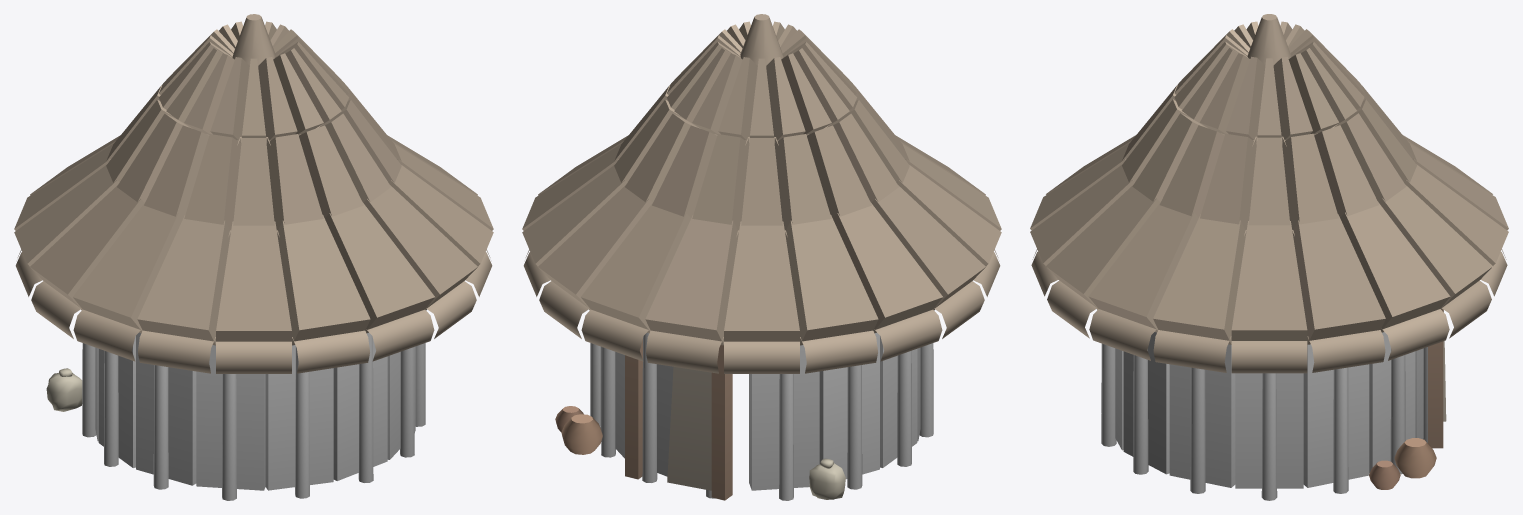
File: hw_woven_shelter.glb
3 views of the same model, side by side, from view 1: azimuth 30°, elevation 25°; view 2: azimuth 150°, elevation 25°; view 3: azimuth 270°, elevation 25° (orthographic).
Parts seen in each view (by area): view 1: Building; view 2: Building; view 3: Building.
Part boxes in pixels (x1,y1,x2,y2): Building: (14,14,493,500); Building: (522,14,1001,500); Building: (1030,14,1508,500).
Size of the model in its own units: 3.08 by 2.95 by 3.11.
